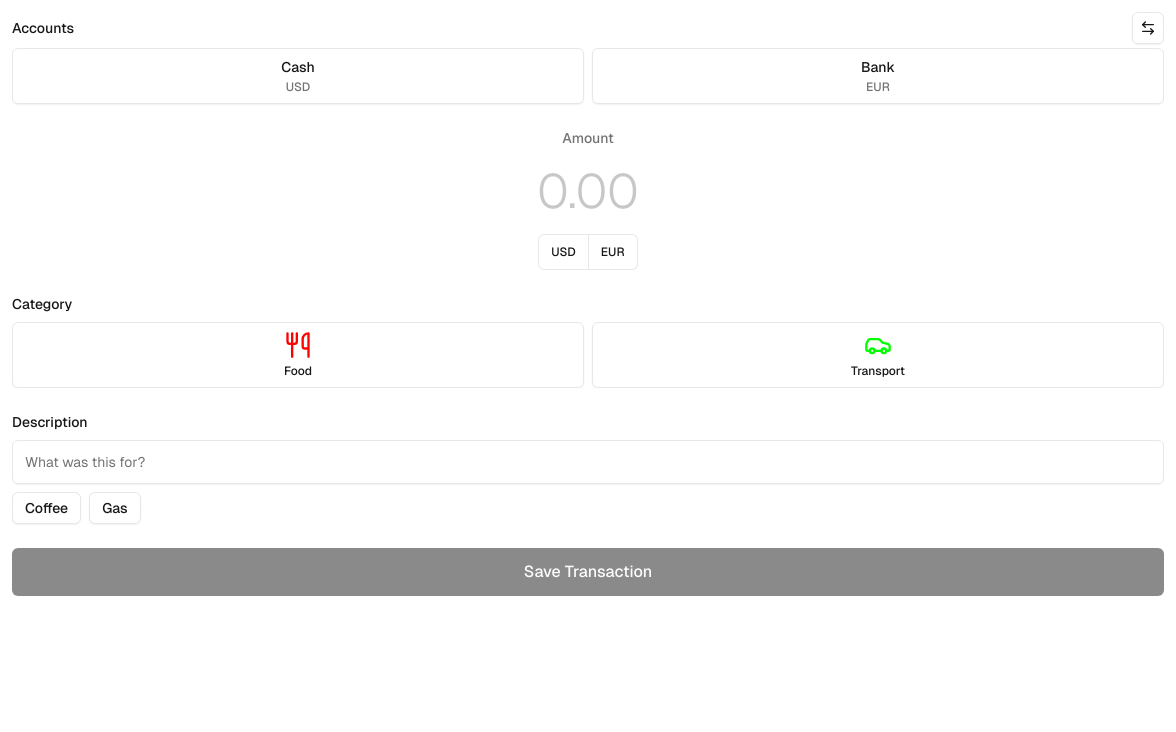
Test: CaptureForm › suggestion account filtering › filters suggestions by account after user clicks an account
This screenshot has width=1176, height=732.
# Explicitly click Bank (a2)
Click the text "Bank" at (878, 67), box [861,57,895,77]
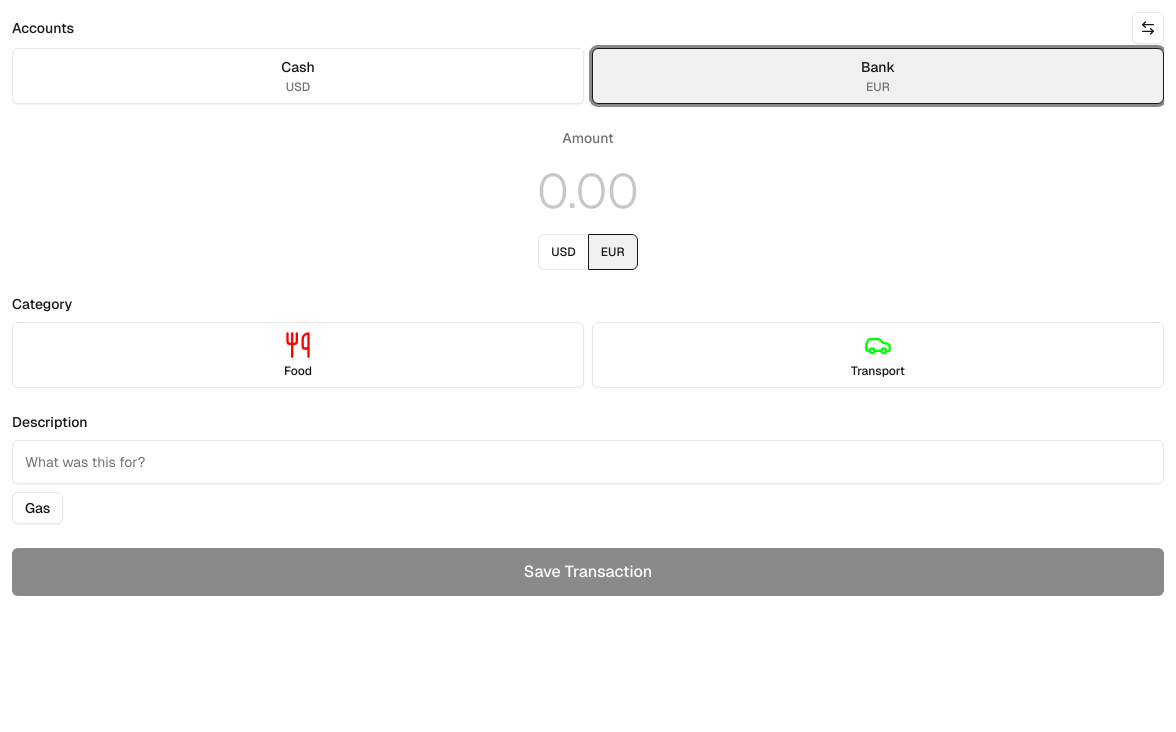
Expected: the button "Gas" is shown, [12,492,63,524]
Expected: the button "Coffee" is gone
